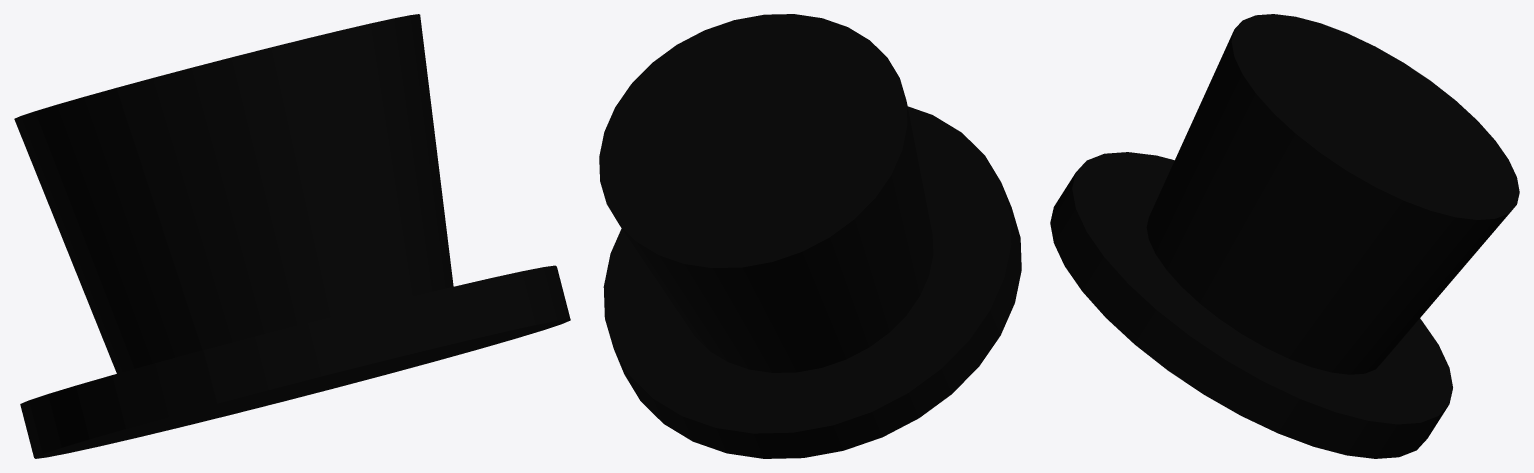
The model's file is hat.obj.
3 renders of one model, left to right at view 1: azimuth 30°, elevation 25°; view 2: azimuth 150°, elevation 25°; view 3: azimuth 270°, elevation 25°, orthographic. The views are drawn at different scales.
Parts seen in each view (by area): view 1: 円柱.001; view 2: 円柱.001; view 3: 円柱.001.
Part boxes in pixels (<box>): 円柱.001: <box>14,14,570,458</box>; 円柱.001: <box>599,14,1021,458</box>; 円柱.001: <box>1050,14,1519,458</box>.
Bounding box in the file's own units: 0.8 × 0.7641 × 0.8539.
1 material, 1 textured.
